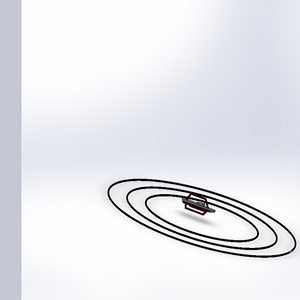circle: (100, 171, 300, 276)
submarine: (176, 190, 221, 224)
